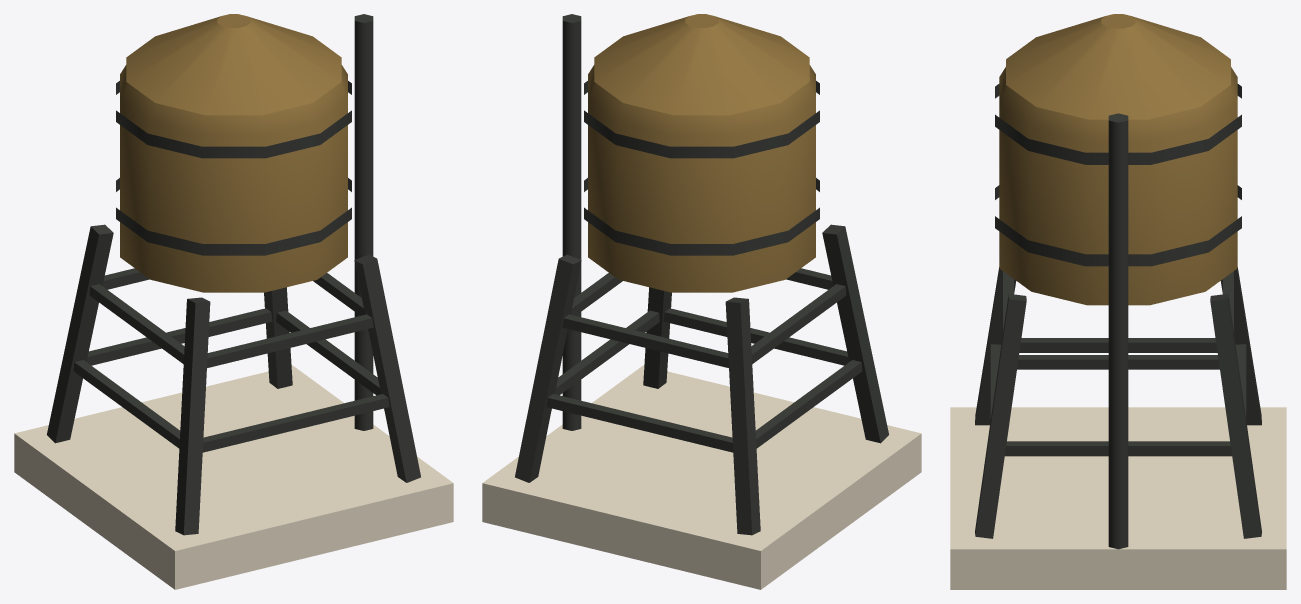
The model's file is water_tower.glb.
The picture shows the model from 3 angles, left to right: view 1: azimuth 30°, elevation 25°; view 2: azimuth 150°, elevation 25°; view 3: azimuth 270°, elevation 25°; orthographic projection. The views are drawn at different scales.
Parts seen in each view (by area): view 1: water_tower; view 2: water_tower; view 3: water_tower.
Part boxes in pixels (left/top/right/bottom): water_tower: left=14, top=14, right=453, bottom=589; water_tower: left=482, top=14, right=921, bottom=589; water_tower: left=950, top=14, right=1286, bottom=589.
Bounding box in the file's own units: 1.5 × 2.45 × 1.5.
